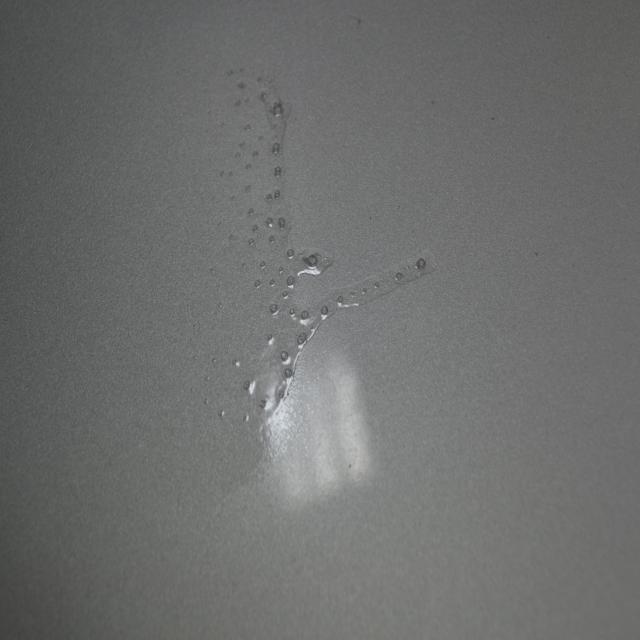dirt: (532, 247, 541, 261)
runs: (192, 67, 435, 451)
